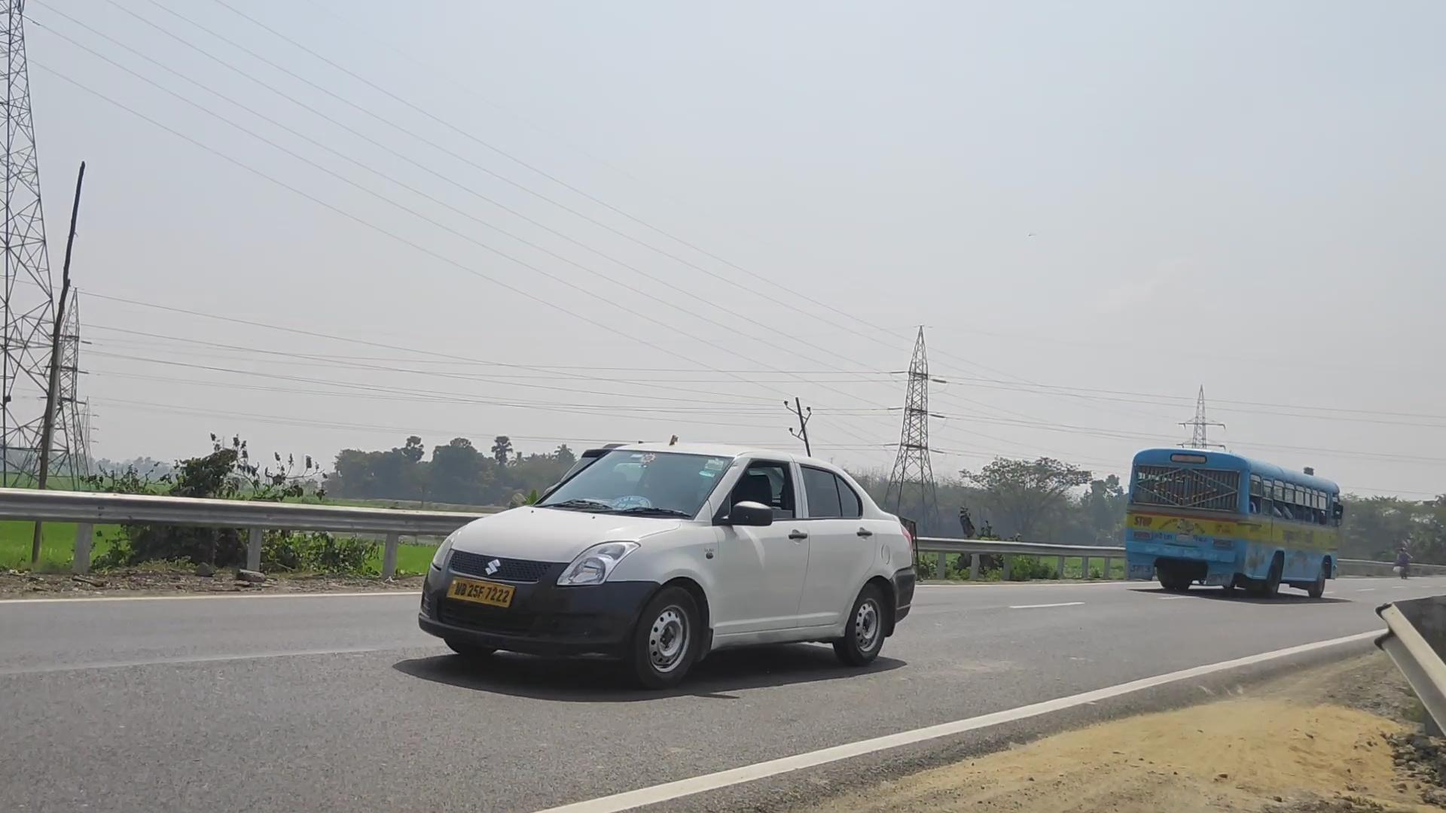Bus: (1124, 447, 1343, 599)
car: (419, 444, 914, 689)
